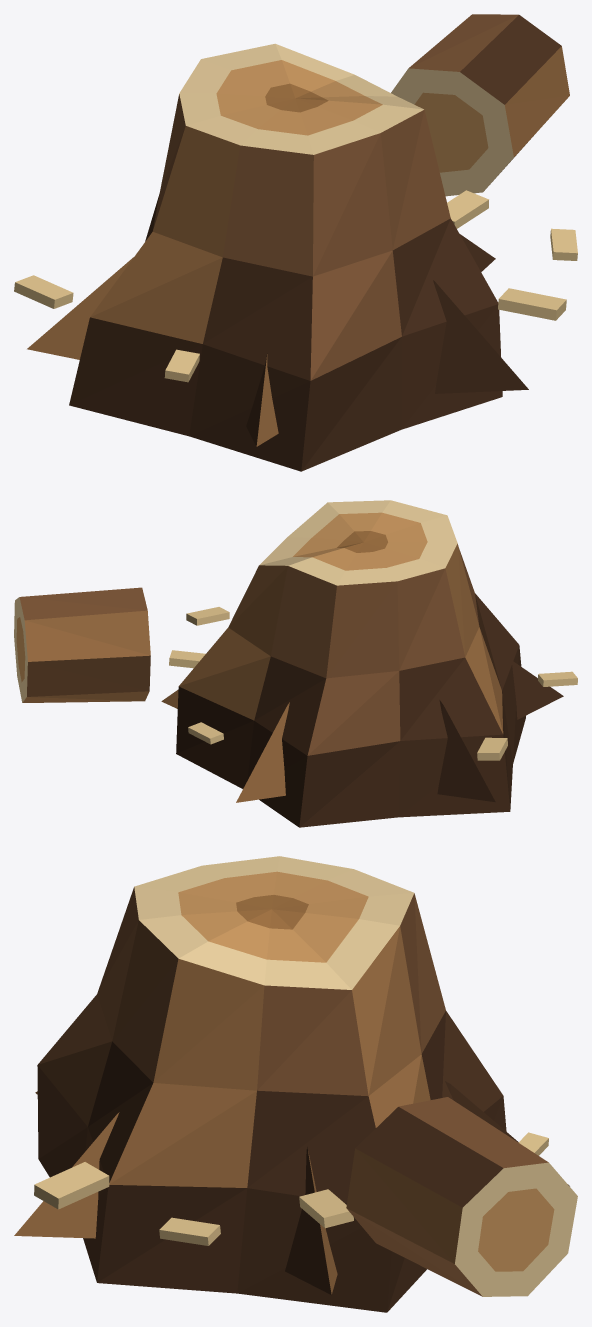
File: stump_with_chips.glb
The picture shows the model from 3 angles, top to bottom: view 1: azimuth 30°, elevation 25°; view 2: azimuth 150°, elevation 25°; view 3: azimuth 270°, elevation 25°; orthographic projection. The views are drawn at different scales.
Visible parts, largest first — view 1: stump_with_chips; view 2: stump_with_chips; view 3: stump_with_chips.
Part boxes in pixels (bbox=[...]): stump_with_chips: bbox=[14, 14, 577, 471]; stump_with_chips: bbox=[14, 500, 577, 827]; stump_with_chips: bbox=[14, 856, 577, 1312].
Bounding box in the file's own units: 1.65 × 0.746 × 1.24.
